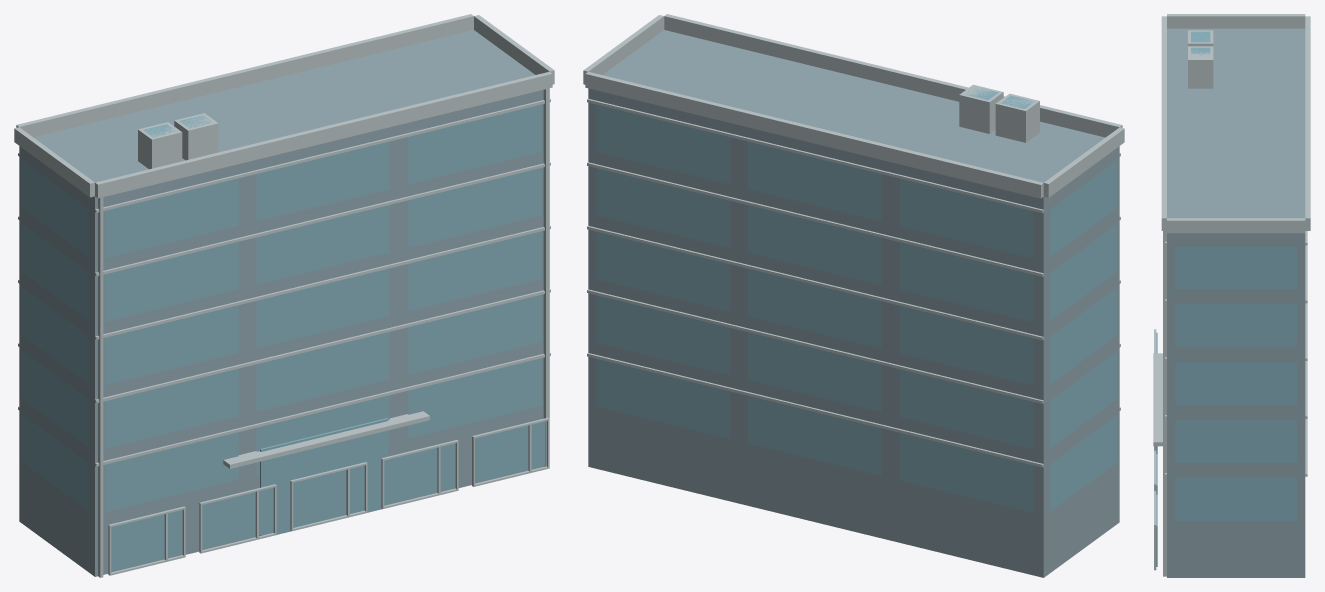
Rendered from commercial_3x1_b.glb.
The picture shows the model from 3 angles, left to right: view 1: azimuth 30°, elevation 25°; view 2: azimuth 150°, elevation 25°; view 3: azimuth 270°, elevation 25°; orthographic projection. The views are drawn at different scales.
Parts seen in each view (by area): view 1: commercial_3x1_b_0; view 2: commercial_3x1_b_0; view 3: commercial_3x1_b_0.
Part boxes in pixels (x1,y1,x2,y2): commercial_3x1_b_0: (14,14,554,577); commercial_3x1_b_0: (583,14,1124,577); commercial_3x1_b_0: (1153,14,1310,577).
Size of the model in its own units: 23 by 19.5 by 7.4.
